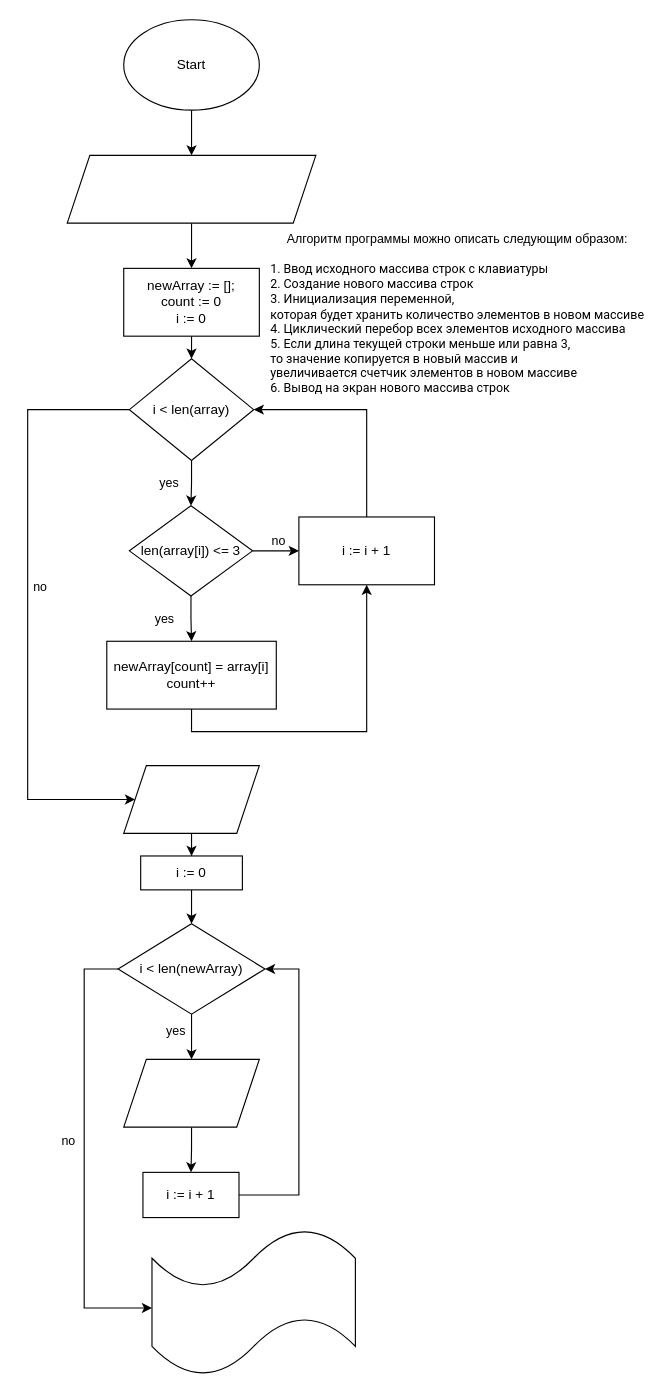
The diagram is 669 pixels wide and 1396 high, and some of its shapes have lost their labels. The box of each missing label's shape, as (x1, y1, x2, y2) in pixels:
Console.Write(newArray[i] +: (151, 1228, 355, 1376)
Enter array of strings separated by space: (66, 154, 316, 223)
newArray[i]: (123, 1058, 259, 1127)
output "Новый массив строк:": (123, 764, 259, 833)
